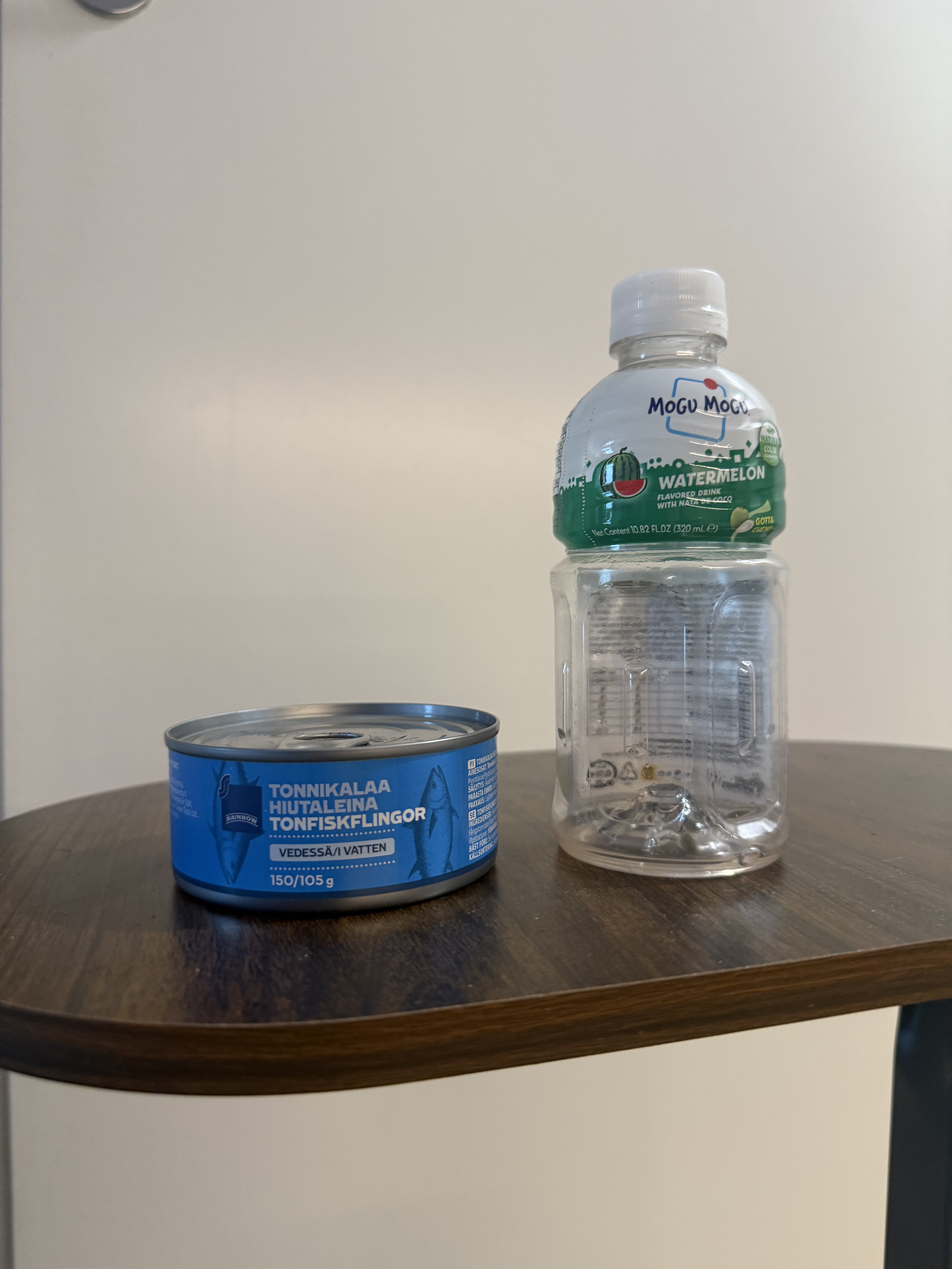Konservburk: (146, 694, 514, 914)
Pantburk: (548, 267, 794, 882)
